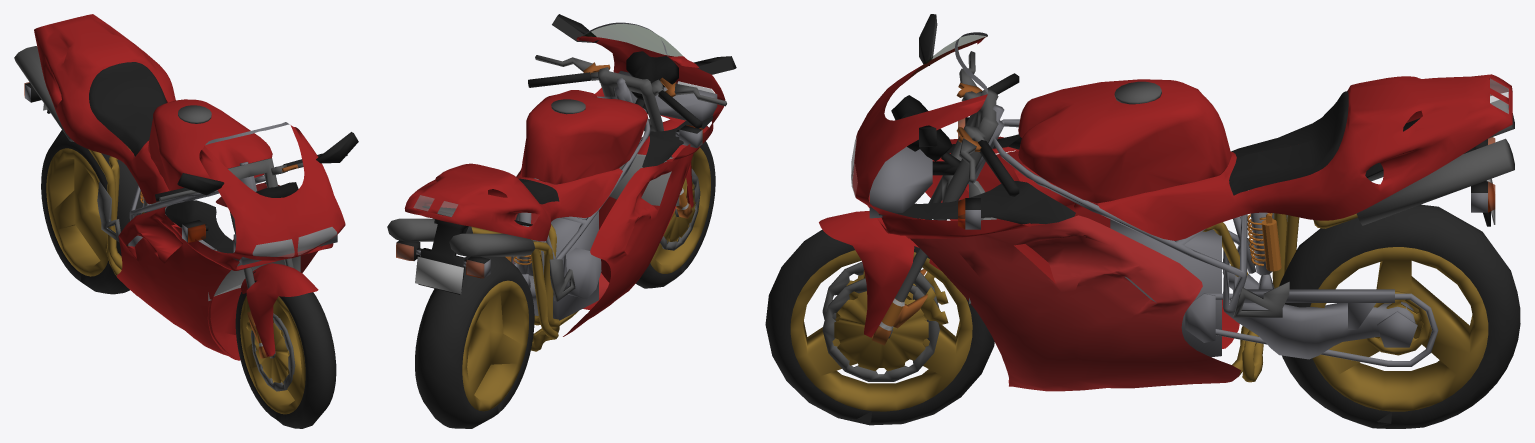
File: bike.obj
3 renders of one model, left to right at view 1: azimuth 30°, elevation 25°; view 2: azimuth 150°, elevation 25°; view 3: azimuth 270°, elevation 25°, orthographic. The views are drawn at different scales.
Visible parts, largest first — view 1: carrd, carrd03, ducgb, carrd02, carrd01, duce01, ducw, ducw01, duce, carrd05, carrd04, duccro (+9 smaller); view 2: carrd, ducw01, carrd01, carrd03, duce01, ducgb, duccro, ducmo, carrd02, ducm5, ductbl, duce (+14 smaller); view 3: carrd03, carrd, carrd01, ducgb, ducw01, duce01, duce, ducw, carrd02, duccro, ducex, carrd05 (+15 smaller).
Part boxes in pixels (<box>): carrd: <box>34,14,175,204</box>; carrd03: <box>116,183,317,359</box>; ducgb: <box>25,62,358,260</box>; carrd02: <box>171,125,345,270</box>; carrd01: <box>147,99,272,190</box>; duce01: <box>46,148,108,276</box>; ducw: <box>235,271,336,428</box>; ducw01: <box>41,130,143,294</box>; duce: <box>240,296,305,414</box>; carrd05: <box>241,263,318,356</box>; carrd04: <box>207,249,300,360</box>; duccro: <box>14,46,211,141</box>; carrd: <box>404,163,622,241</box>; ducw01: <box>415,256,534,428</box>; carrd01: <box>521,90,647,184</box>; carrd03: <box>513,153,693,336</box>; duce01: <box>462,280,528,411</box>; ducgb: <box>396,14,736,294</box>; duccro: <box>387,16,733,256</box>; ducmo: <box>527,211,601,320</box>; carrd02: <box>576,36,725,161</box>; ducm5: <box>535,55,726,191</box>; ductbl: <box>471,224,578,351</box>; duce: <box>650,147,710,273</box>; carrd03: <box>910,151,1240,391</box>; carrd: <box>1097,74,1512,240</box>; carrd01: <box>1018,79,1231,203</box>; ducgb: <box>878,14,1490,366</box>; ducw01: <box>1279,204,1520,428</box>; duce01: <box>1310,247,1488,411</box>; duce: <box>790,250,972,411</box>; ducw: <box>765,229,994,425</box>; carrd02: <box>852,36,1030,238</box>; duccro: <box>930,16,1514,225</box>; ducex: <box>1226,272,1415,359</box>; carrd05: <box>819,211,940,337</box>.
Size of the model in its own units: 2.46 by 3.46 by 6.22.
